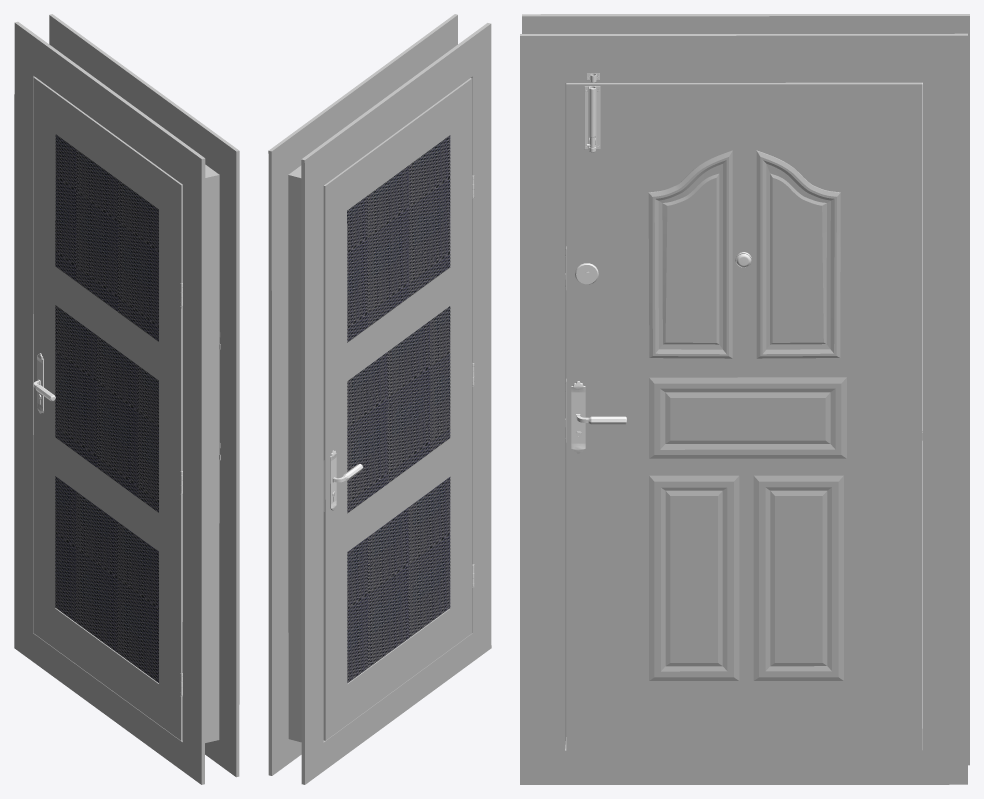
File: primo_casa_.fbx
3 renders of one model, left to right at view 1: azimuth 30°, elevation 25°; view 2: azimuth 150°, elevation 25°; view 3: azimuth 270°, elevation 25°, orthographic. The views are drawn at different scales.
Parts seen in each view (by area): view 1: outer_frame, DOOR_GRILL_1, GLASS_1; view 2: outer_frame, DOOR_GRILL_1, GLASS_1; view 3: door_FIRST, outer_frame, polySurface11, pCube11.
Boxes of the visible parts, x1,y1,x2,y2 form: outer_frame: (14, 14, 239, 784); DOOR_GRILL_1: (33, 77, 182, 740); GLASS_1: (55, 134, 158, 682); outer_frame: (268, 14, 491, 784); DOOR_GRILL_1: (323, 78, 472, 740); GLASS_1: (347, 135, 450, 683); door_FIRST: (566, 82, 922, 751); outer_frame: (520, 14, 969, 784); polySurface11: (584, 86, 600, 152); pCube11: (571, 381, 585, 453).
Bounding box in the file's own units: 24.8 × 244 × 133.
